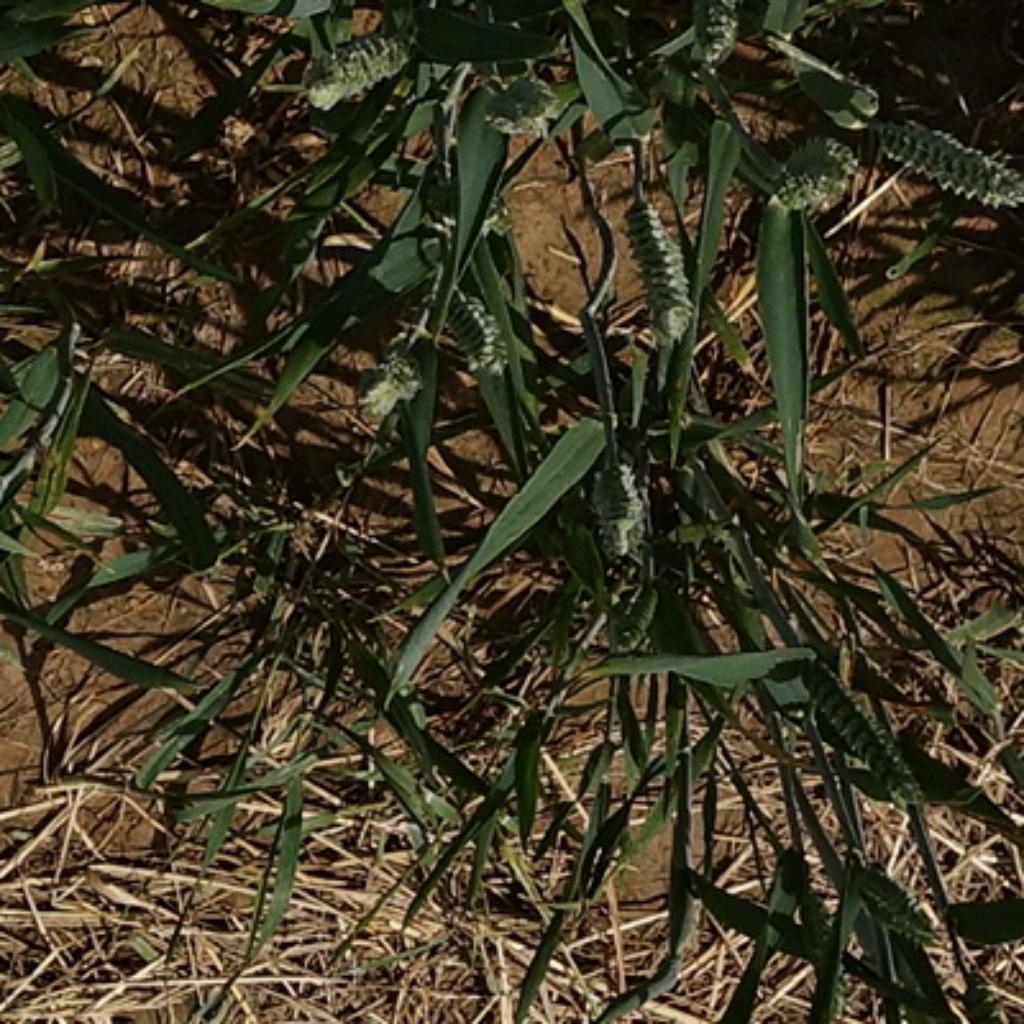0-0: (788, 662, 924, 797), (865, 104, 1024, 212), (294, 15, 417, 112), (622, 179, 698, 325), (834, 839, 936, 947), (576, 445, 655, 563), (427, 279, 517, 373), (765, 128, 860, 217), (348, 335, 435, 427), (468, 64, 565, 140), (680, 0, 747, 76)
